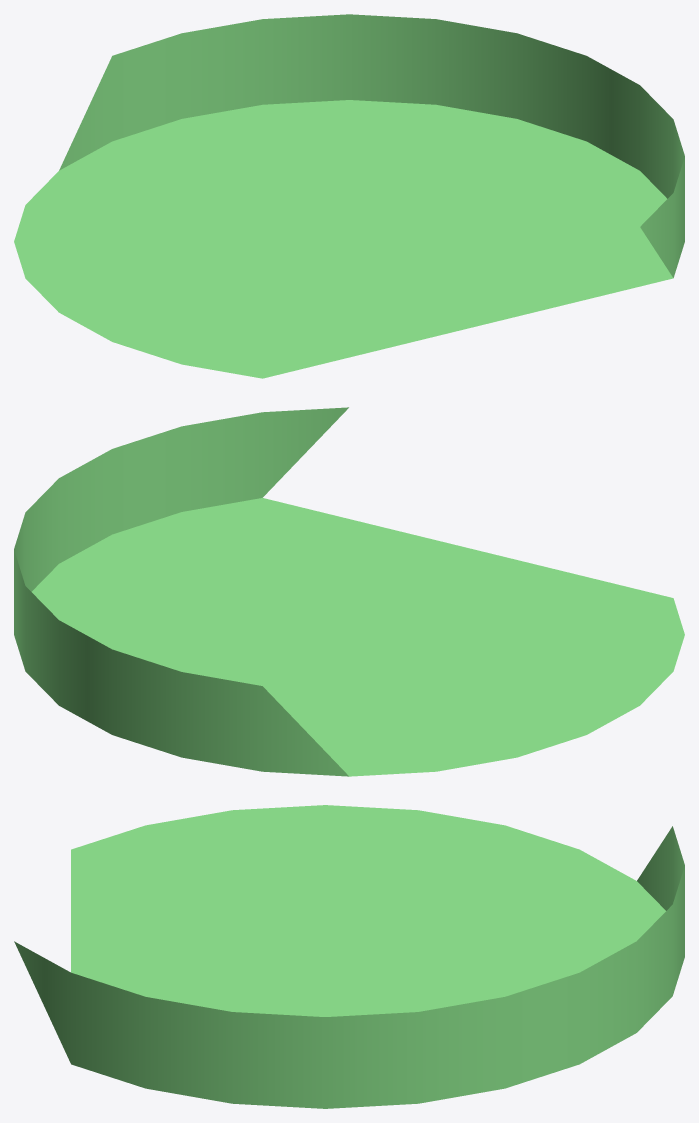
3 views of the same model, one above another, from view 1: azimuth 30°, elevation 25°; view 2: azimuth 150°, elevation 25°; view 3: azimuth 270°, elevation 25° (orthographic). The views are drawn at different scales.
Bounding box in the file's own units: 0.0754 × 0.0106 × 0.0703.
